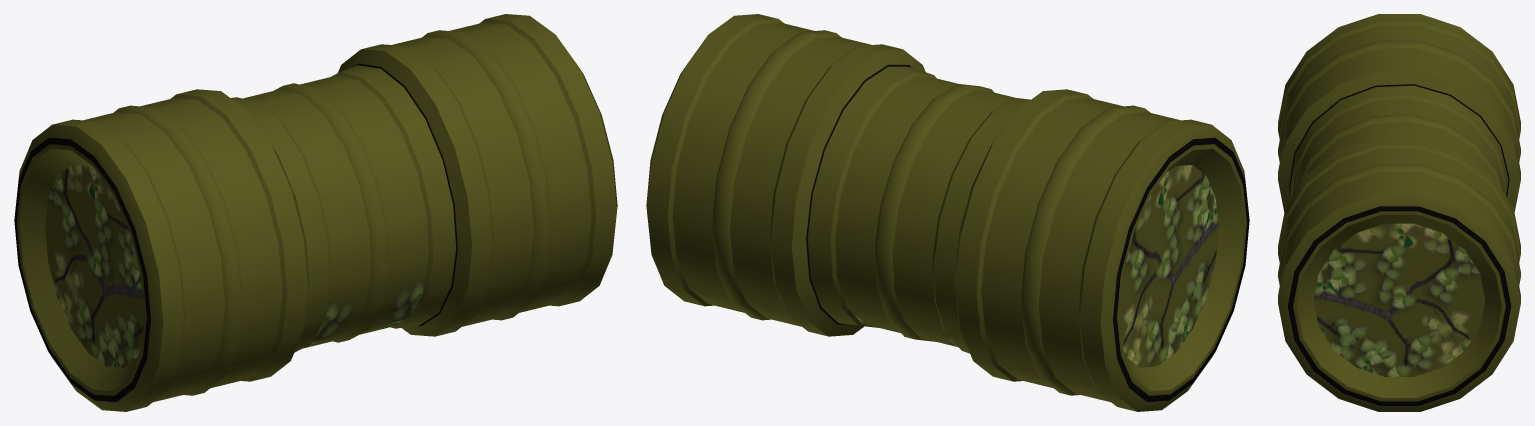
The model's file is pipe_connector_a.FBX.
The picture shows the model from 3 angles, left to right: view 1: azimuth 30°, elevation 25°; view 2: azimuth 150°, elevation 25°; view 3: azimuth 270°, elevation 25°; orthographic projection. The views are drawn at different scales.
Parts seen in each view (by area): view 1: pipe_connector_a; view 2: pipe_connector_a; view 3: pipe_connector_a.
Boxes of the visible parts, box(x1,y1,x2,y2) form: pipe_connector_a: box(14, 14, 617, 411); pipe_connector_a: box(646, 14, 1249, 411); pipe_connector_a: box(1278, 14, 1520, 411).
Size of the model in its own units: 2.73 by 1.5 by 1.48.
